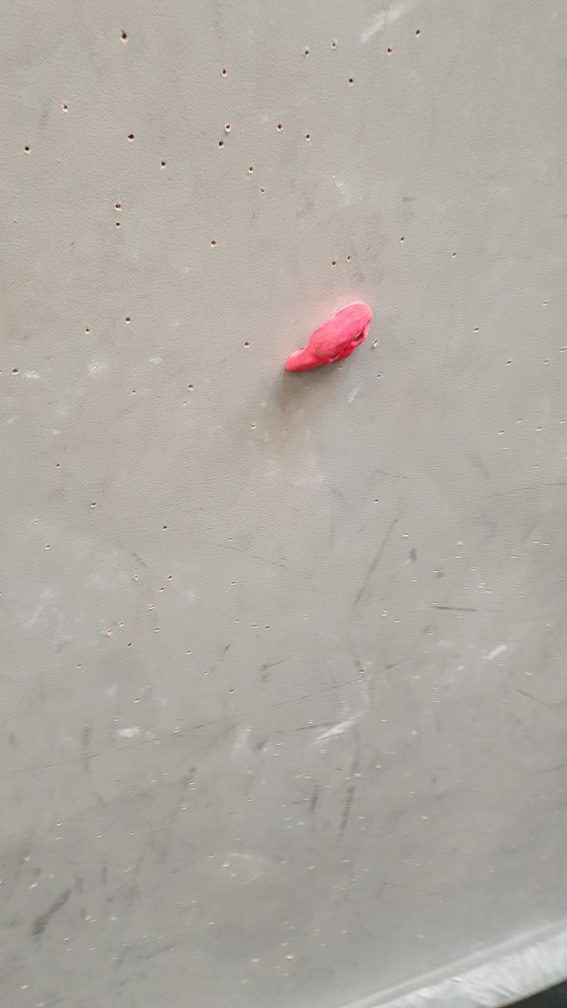Jug: (280, 298, 378, 376)
